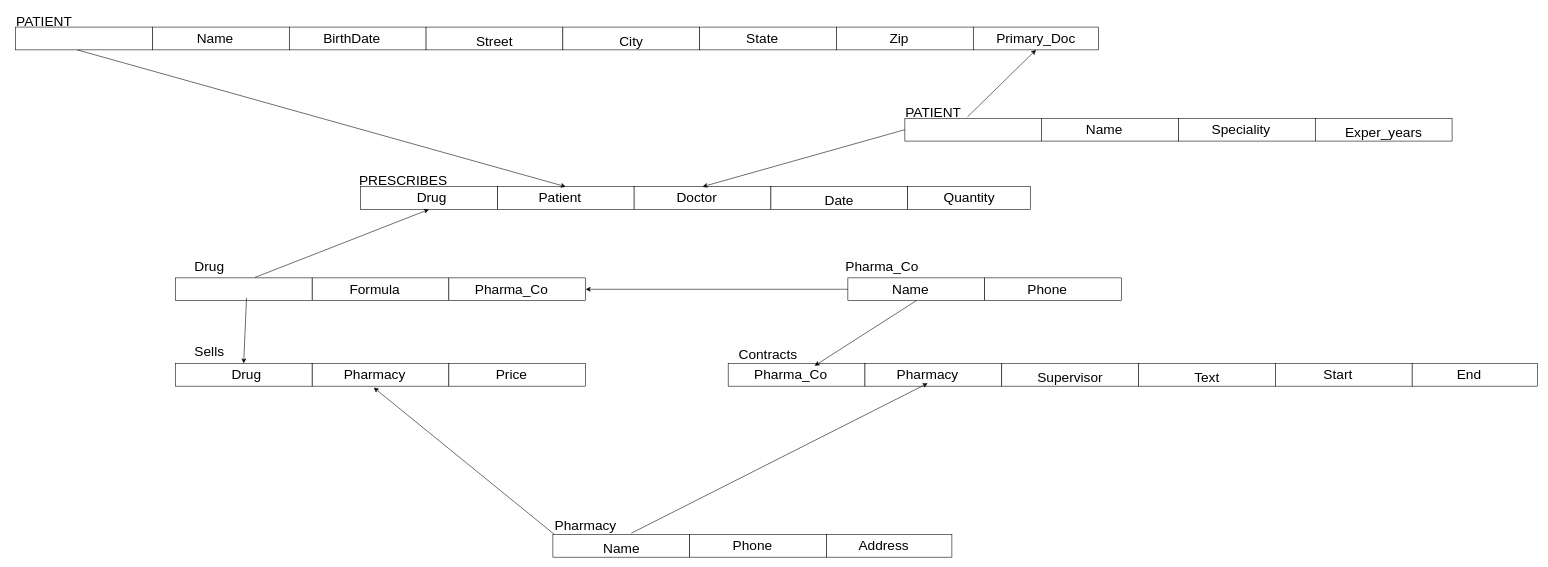
Image size: 1548x567. Some labels were removed from this diagram. The centre of each missing label's shape, as x and y in pixels:
"Doc_SSN" belongs at (x=973, y=129).
"SSN" belongs at (x=83, y=38).
"Trade_Name" belongs at (x=243, y=289).
